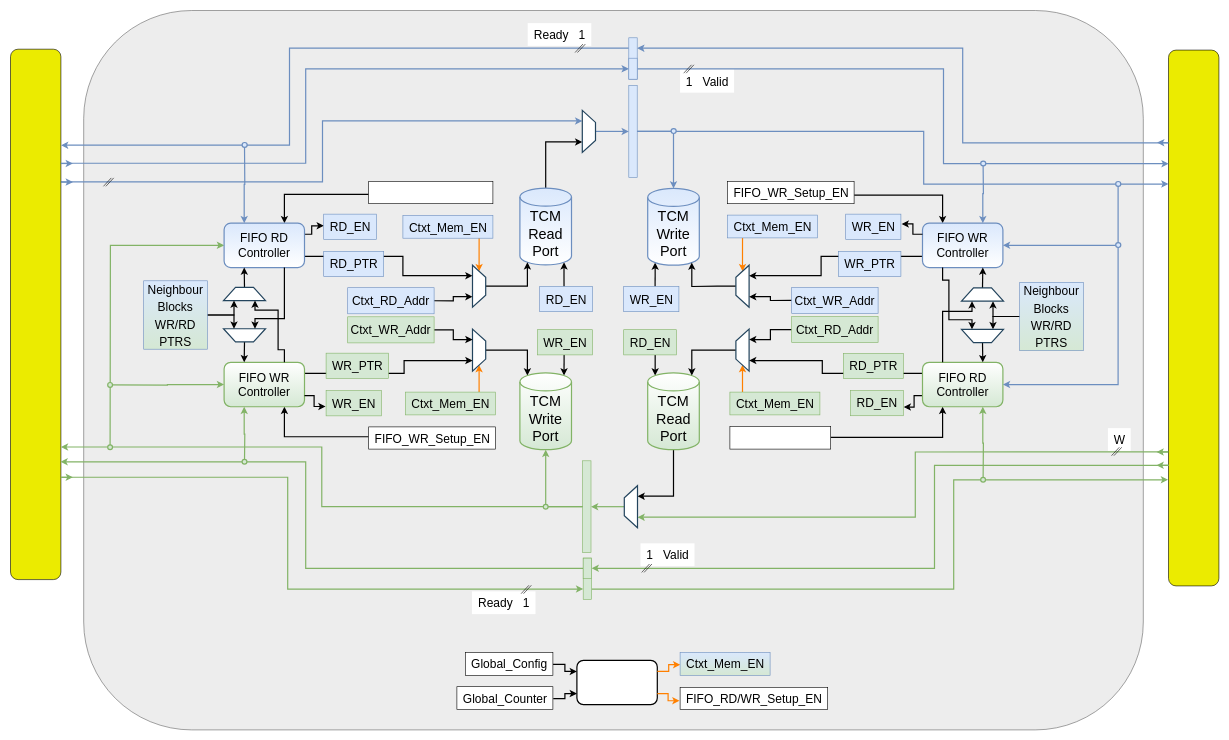
This 1229x740 diagram has some shape labels left out. The centre of each missing label's shape, as x and y in pixels:
FIFO_RD_Setup_EN: the point at 430,192
FIFO_Setup_EN: the point at 780,437
Local Controller: the point at 617,682
